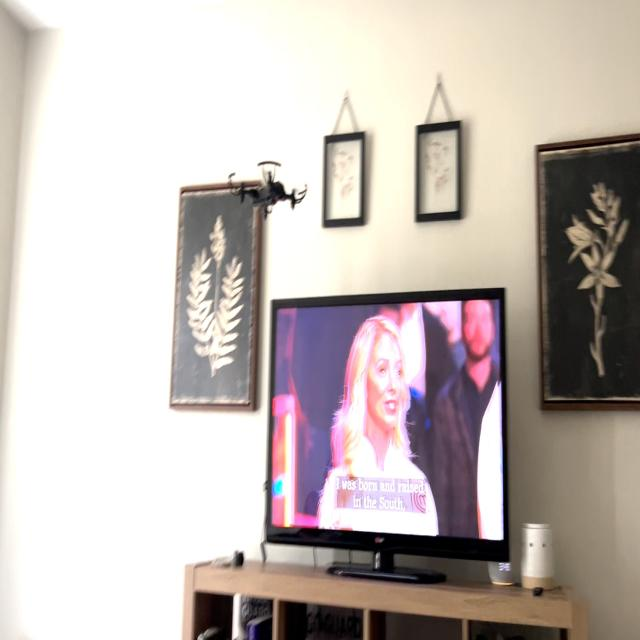drone: (217, 148, 316, 222)
